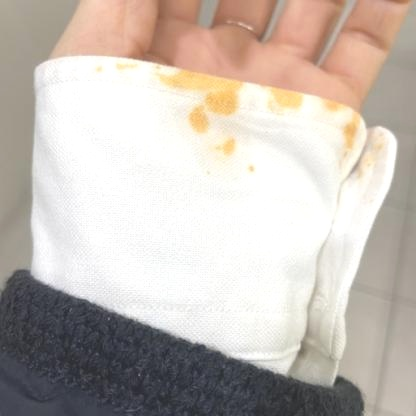kimchi: (193, 82, 247, 120), (333, 120, 360, 175), (258, 91, 300, 117), (157, 77, 217, 91), (185, 107, 210, 137), (359, 134, 381, 168), (210, 137, 238, 159), (113, 64, 137, 74), (323, 103, 340, 112), (249, 162, 260, 171), (151, 65, 161, 74), (203, 168, 211, 179), (97, 62, 104, 74)
